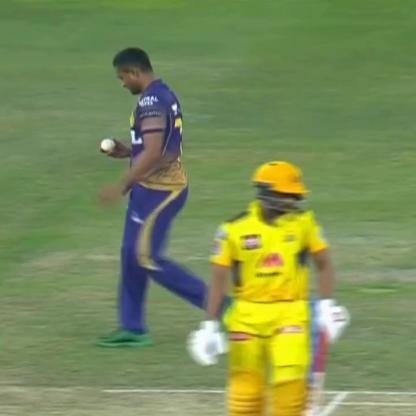ball: (97, 136, 121, 161)
